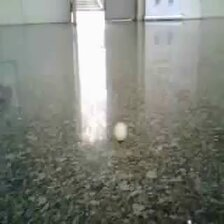w: (112, 121, 130, 143)
